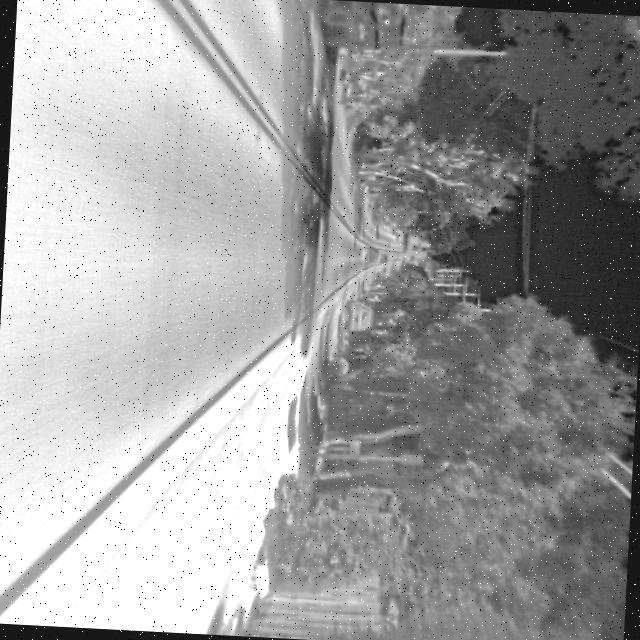Vehicle: (315, 0, 416, 59), (342, 298, 377, 334)
